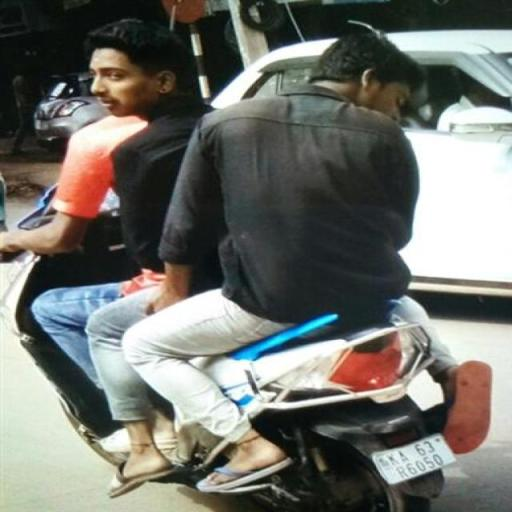tripple riding: (0, 12, 439, 326)
